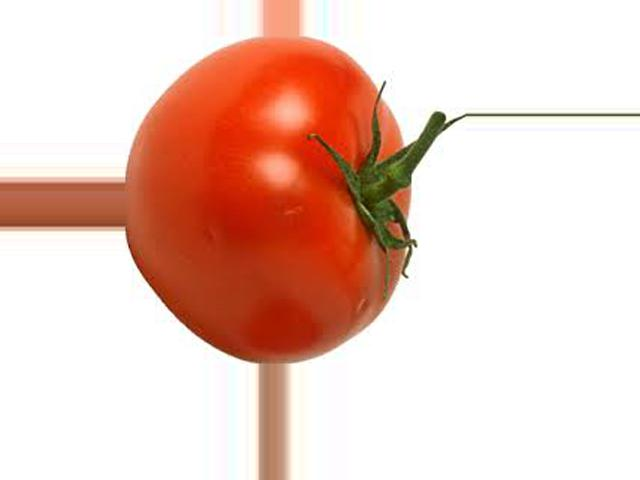tomato: (127, 36, 412, 365)
